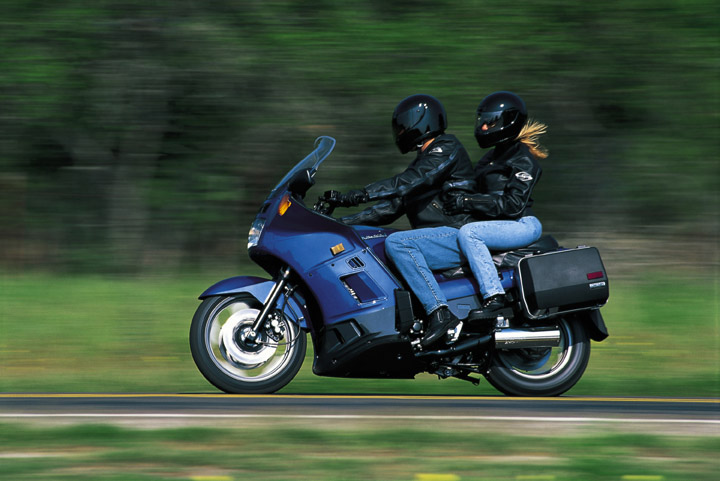helmet: (384, 98, 459, 154), (477, 83, 533, 153)
